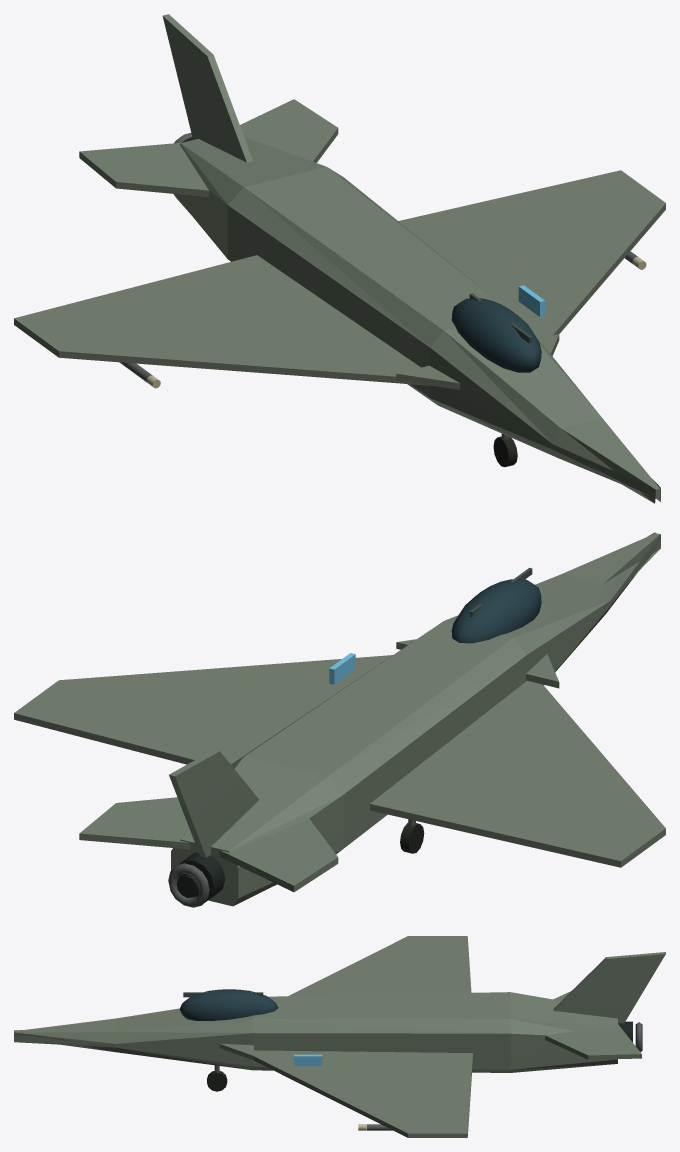
The model's file is bomber.glb.
3 renders of one model, top to bottom at view 1: azimuth 30°, elevation 25°; view 2: azimuth 150°, elevation 25°; view 3: azimuth 270°, elevation 25°, orthographic. The views are drawn at different scales.
Parts seen in each view (by area): view 1: armor, glass, equipment; view 2: armor, glass, equipment (×2); view 3: armor, glass, equipment (×2), marking.
Part boxes in pixels (box(x1,y1,x2,y2)): armor: box(14, 14, 665, 503); glass: box(451, 298, 541, 372); equipment: box(119, 133, 646, 388); armor: box(14, 532, 665, 906); glass: box(451, 579, 541, 643); equipment (×2): box(168, 567, 532, 907); armor: box(14, 936, 665, 1137); glass: box(179, 989, 278, 1020); equipment (×2): box(183, 992, 642, 1130); marking: box(294, 1054, 322, 1066).
Size of the model in its own units: 8.2 by 2.64 by 11.45.
